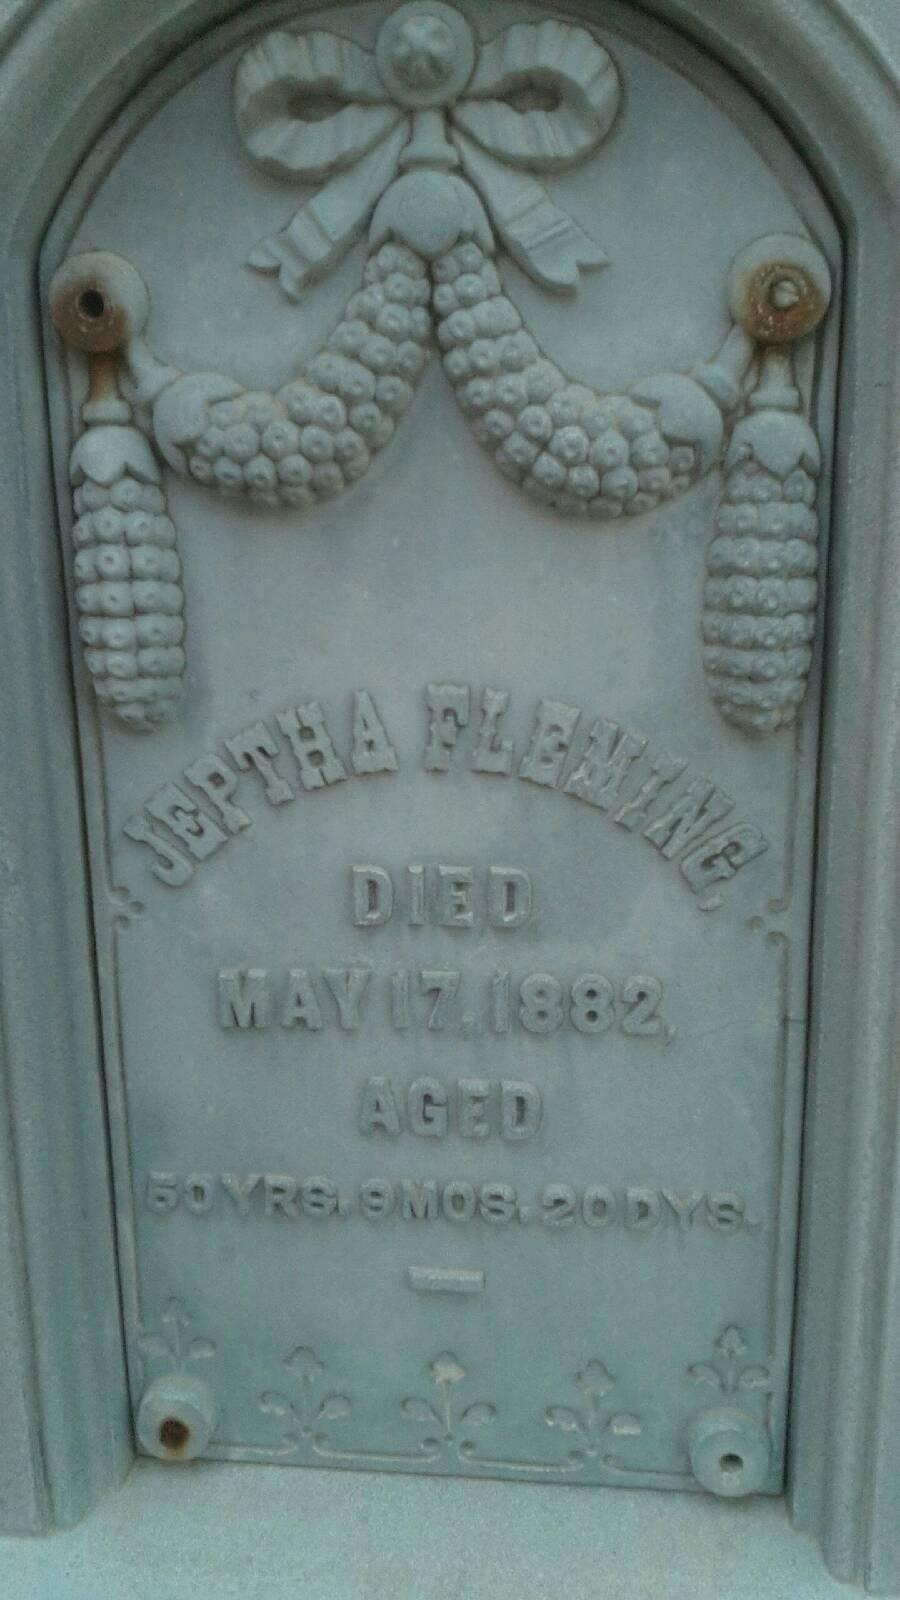upright: (0, 8, 895, 1585)
